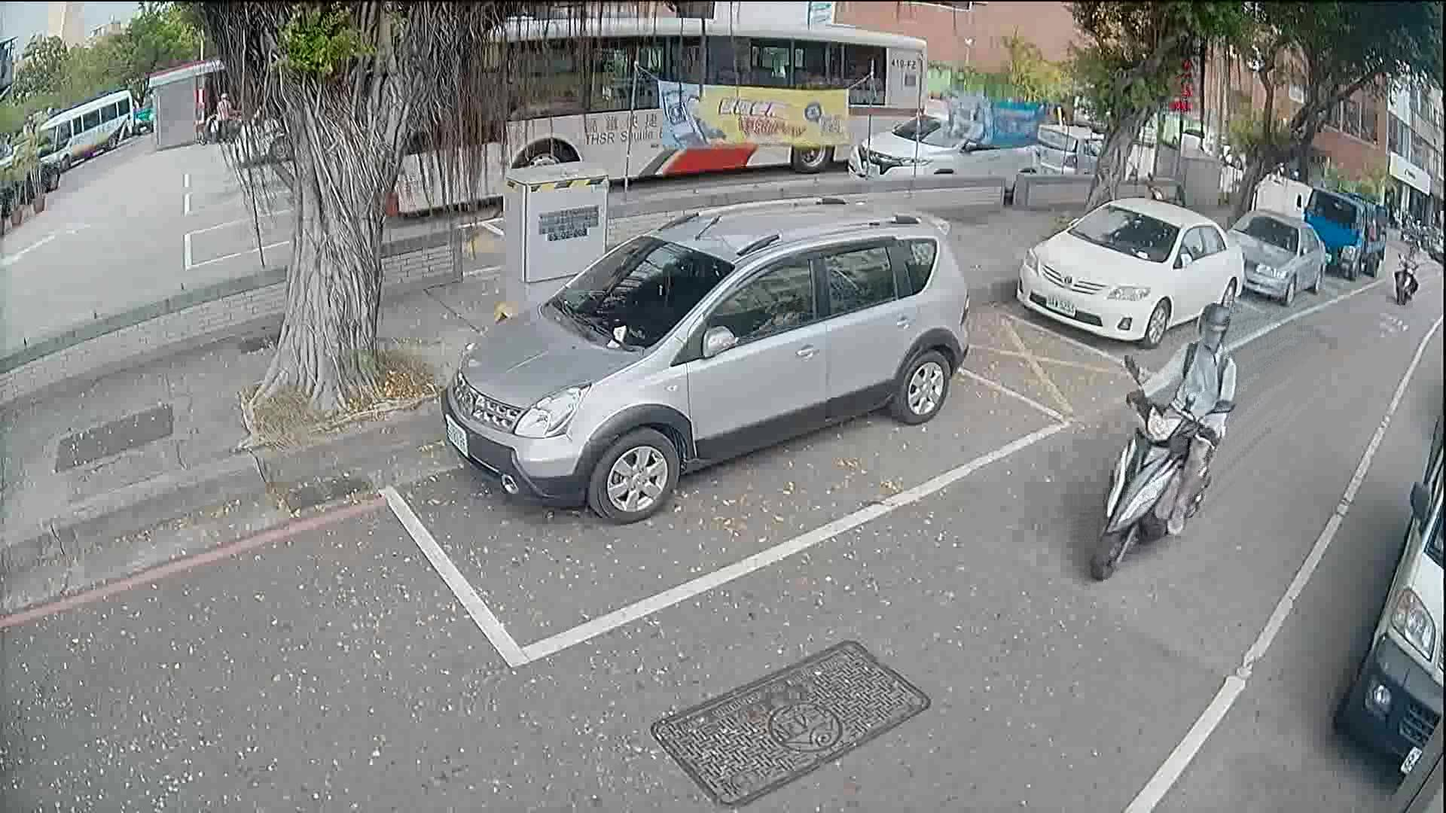person: (1121, 299, 1236, 542), (1394, 236, 1418, 296), (208, 85, 232, 143)
